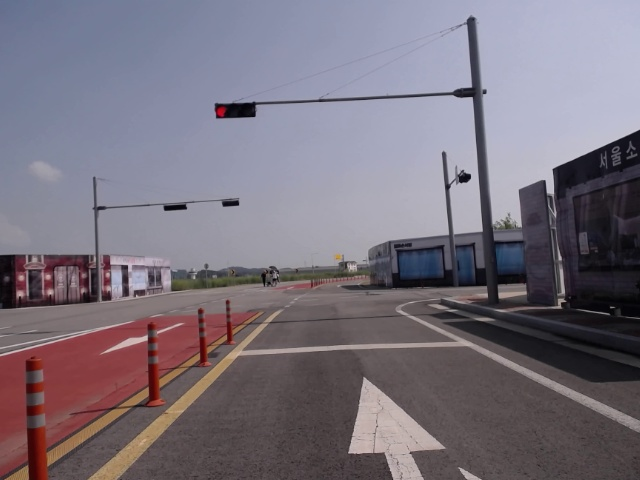red_3: (216, 102, 256, 118)
